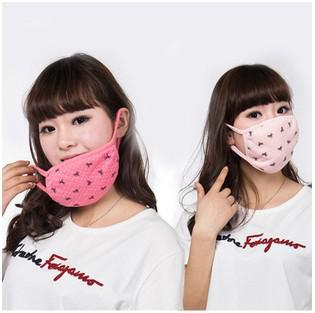OK: (235, 100, 304, 169)
WRONG: (33, 107, 111, 185)
